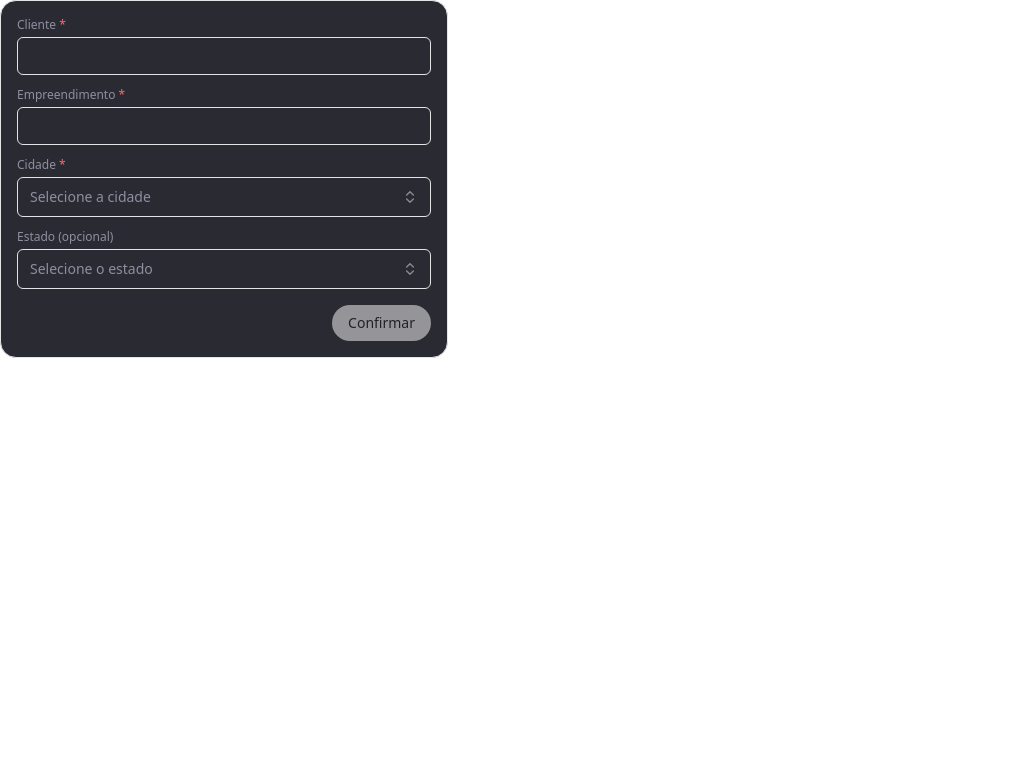
Scenario: <MetadataForm /> › opens cidade combobox and lists cities by name
What coordinates should you click on to do the following:
click the dropdown labelled "Selecione a cidade"
I would click on:
 (90, 196)
Its box is [17,177,431,217].
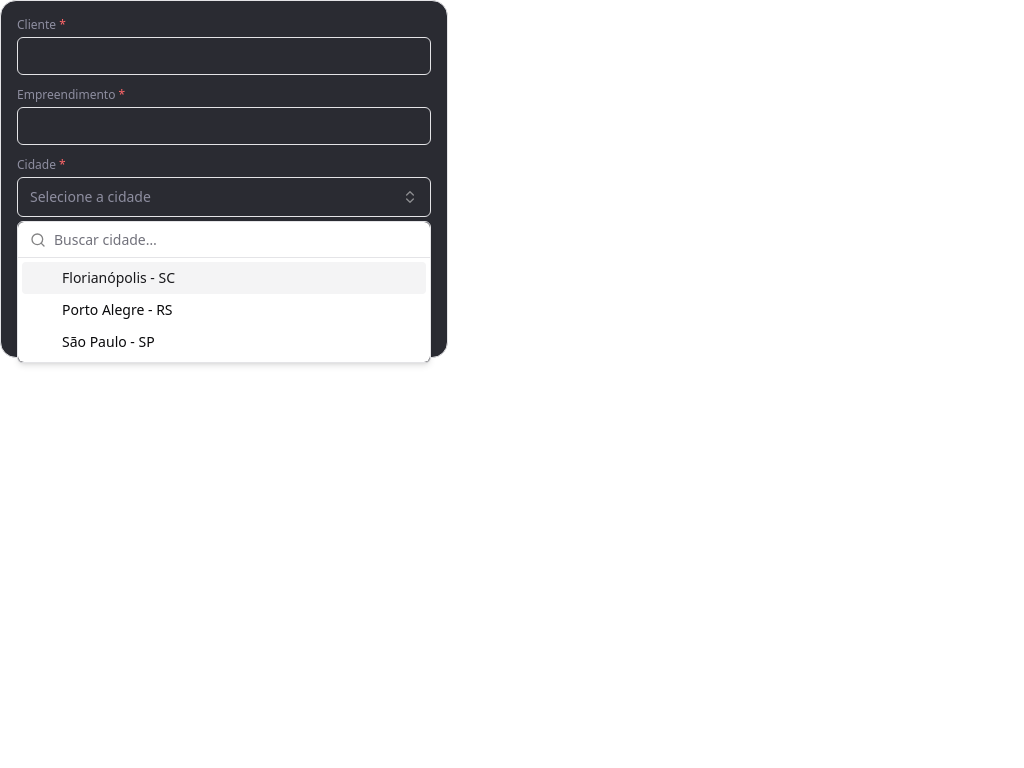
Expected: the option "Florianópolis - SC" is shown, [22,262,426,294]
Expected: the option "Porto Alegre - RS" is shown, [62,300,172,319]
